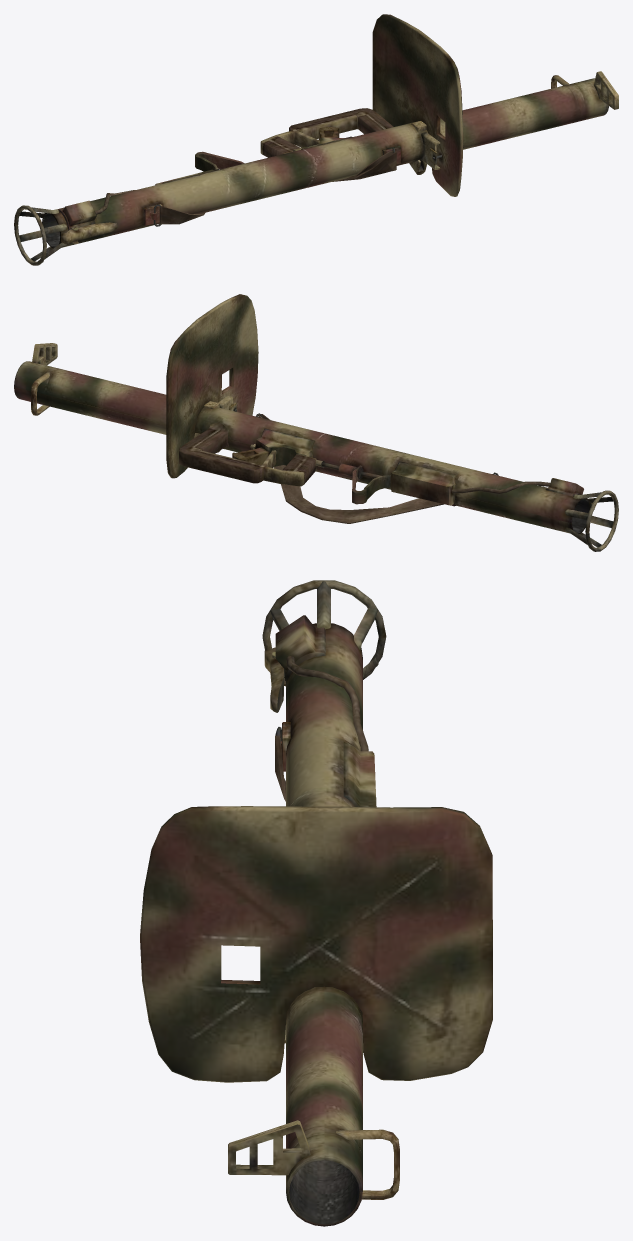
Rendered from weapon_panzerschreck.glb.
The picture shows the model from 3 angles, top to bottom: view 1: azimuth 30°, elevation 25°; view 2: azimuth 150°, elevation 25°; view 3: azimuth 270°, elevation 25°; orthographic projection. The views are drawn at different scales.
Bounding box in the file's own units: 67.74 × 15.59 × 18.14.
1 material, 1 textured.
